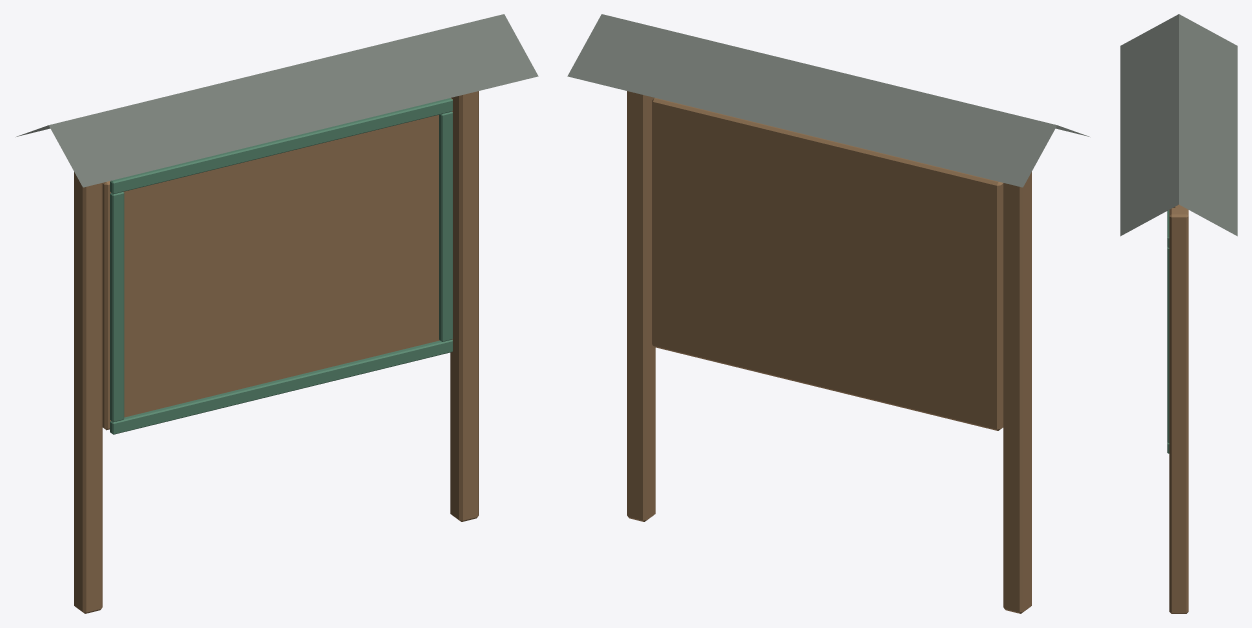
The model's file is map_board.glb.
The picture shows the model from 3 angles, left to right: view 1: azimuth 30°, elevation 25°; view 2: azimuth 150°, elevation 25°; view 3: azimuth 270°, elevation 25°; orthographic projection. The views are drawn at different scales.
Visible parts, largest first — view 1: map_board; view 2: map_board; view 3: map_board.
Boxes of the visible parts, bbox=[...] form: map_board: bbox=[16, 14, 538, 613]; map_board: bbox=[567, 14, 1089, 613]; map_board: bbox=[1120, 14, 1237, 613].
Size of the model in its own units: 2.3 by 2.38 by 0.6.
